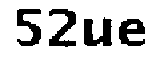2: (46, 4, 78, 51)
5: (12, 6, 43, 50)
e: (117, 17, 148, 50)
u: (80, 15, 113, 52)
